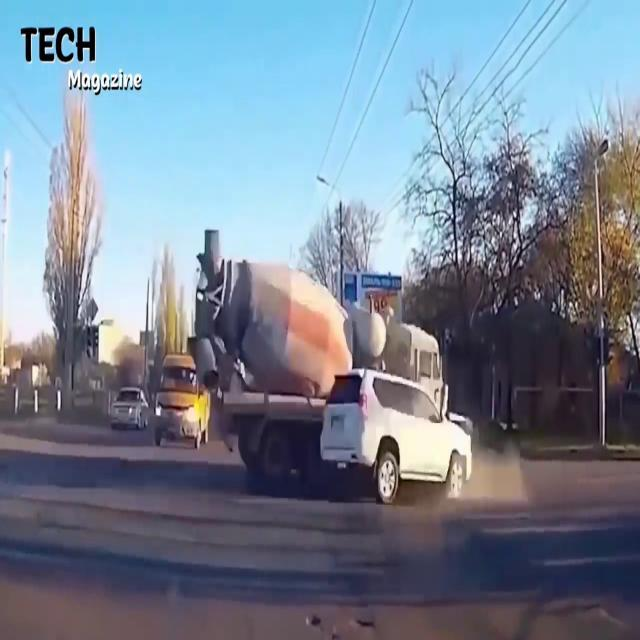accident: (198, 260, 478, 504)
